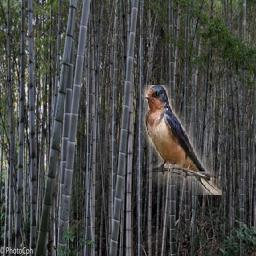Swallow: (144, 85, 223, 195)
